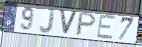7: (117, 16, 136, 41)
9: (19, 7, 35, 32)
E: (96, 15, 117, 41)
J: (38, 8, 56, 35)
P: (75, 12, 98, 37)
V: (59, 9, 79, 36)
